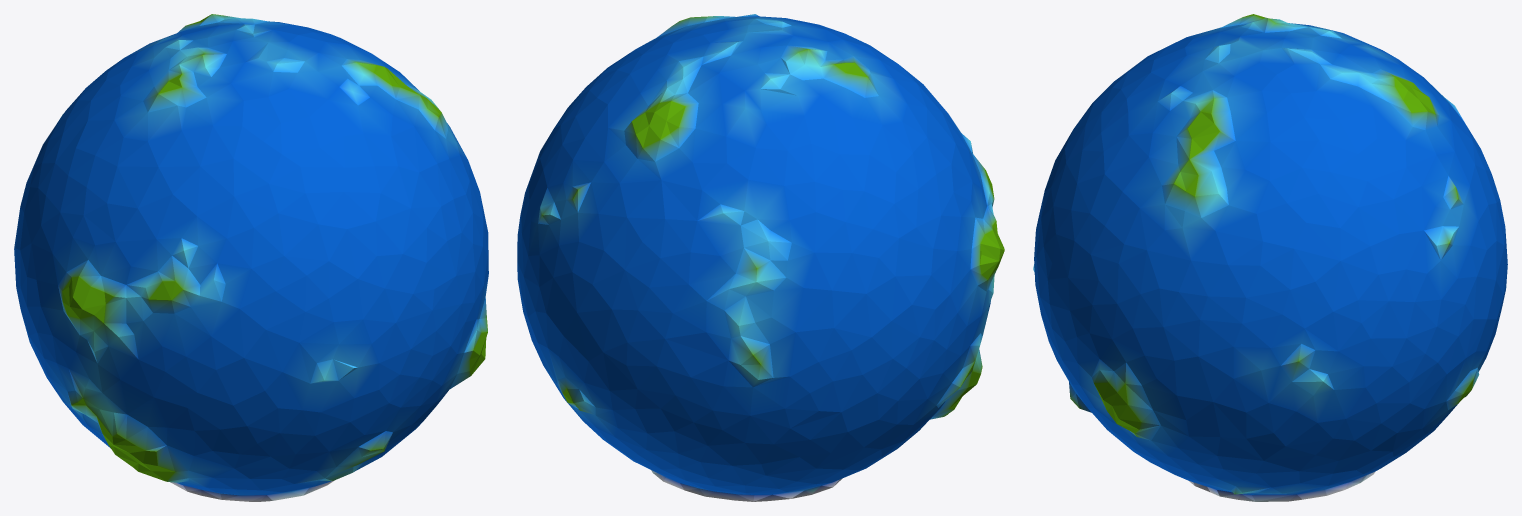
File: planet_36.fbx
3 renders of one model, left to right at view 1: azimuth 30°, elevation 25°; view 2: azimuth 150°, elevation 25°; view 3: azimuth 270°, elevation 25°, orthographic.
Visible parts, largest first — view 1: file1; view 2: file1; view 3: file1.
Boxes of the visible parts, <box> form: file1: <box>14,14,488,501</box>; file1: <box>517,14,1004,501</box>; file1: <box>1033,14,1507,501</box>.
Size of the model in its own units: 2.05 by 2.04 by 2.01.
